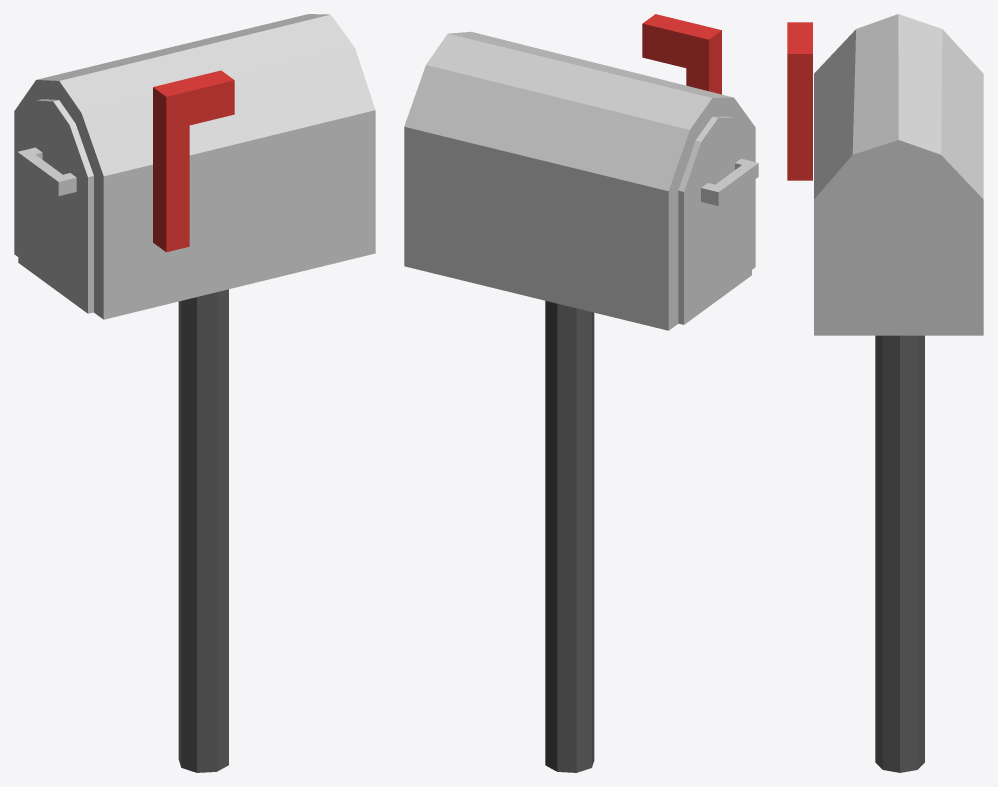
Rendered from Mailbox.glb.
The picture shows the model from 3 angles, left to right: view 1: azimuth 30°, elevation 25°; view 2: azimuth 150°, elevation 25°; view 3: azimuth 270°, elevation 25°; orthographic projection. The views are drawn at different scales.
Parts seen in each view (by area): view 1: MailBox, MailBoxPost, MailBoxFlag; view 2: MailBox, MailBoxPost, MailBoxFlag; view 3: MailBox, MailBoxPost, MailBoxFlag.
Boxes of the visible parts, box(x1,y1,x2,y2) form: MailBox: box(14, 14, 375, 319); MailBoxPost: box(178, 289, 228, 772); MailBoxFlag: box(153, 70, 234, 252); MailBox: box(404, 31, 758, 330); MailBoxPost: box(545, 301, 594, 772); MailBoxFlag: box(642, 14, 721, 94); MailBox: box(814, 14, 983, 335); MailBoxPost: box(875, 335, 924, 772); MailBoxFlag: box(787, 22, 812, 180).
Size of the model in its own units: 1.18 by 2.79 by 0.7136.
